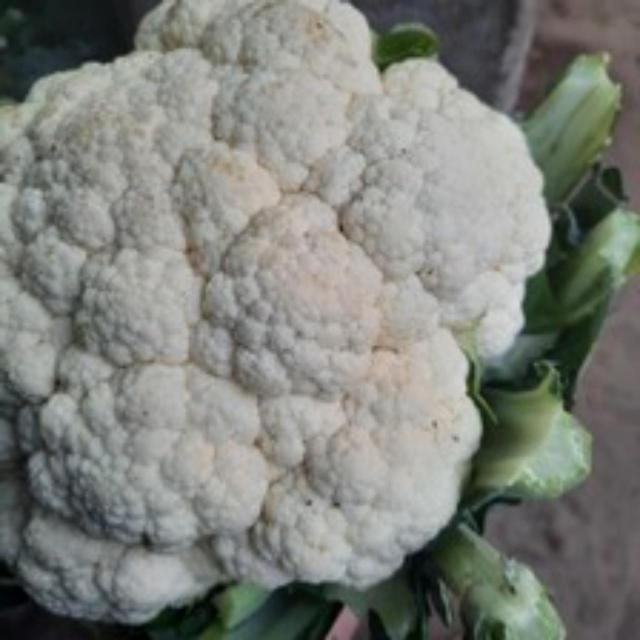cauliflower: (0, 0, 560, 637)
